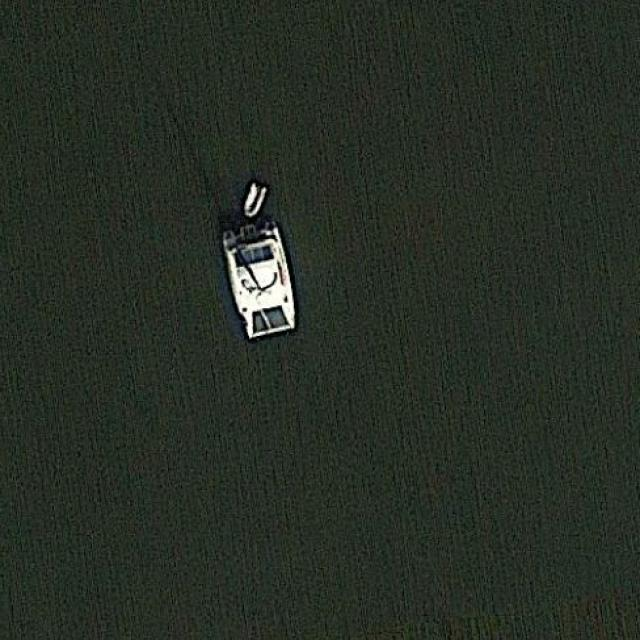ship: (216, 186, 296, 341)
